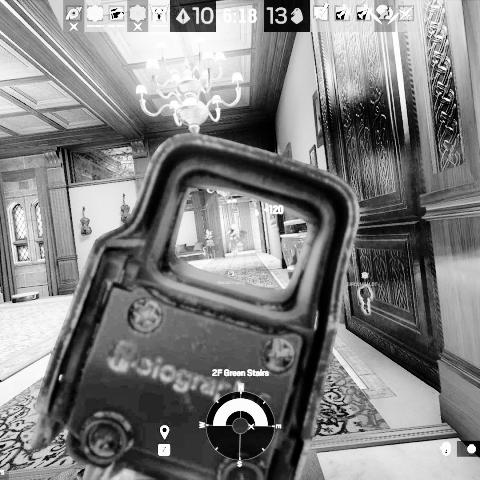Character: (227, 223, 242, 257)
Friend_label: (345, 270, 378, 287), (216, 269, 246, 287)
Head: (231, 224, 237, 229)
